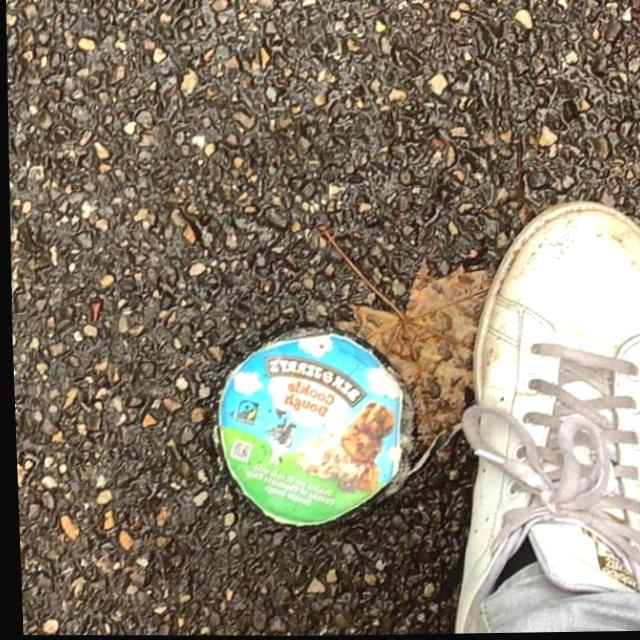Paper: (208, 325, 417, 532)
